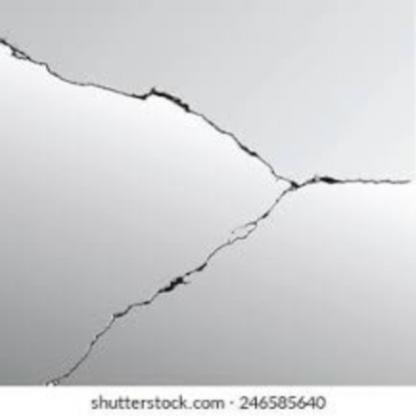SurfaceCrack: (1, 27, 408, 387)
